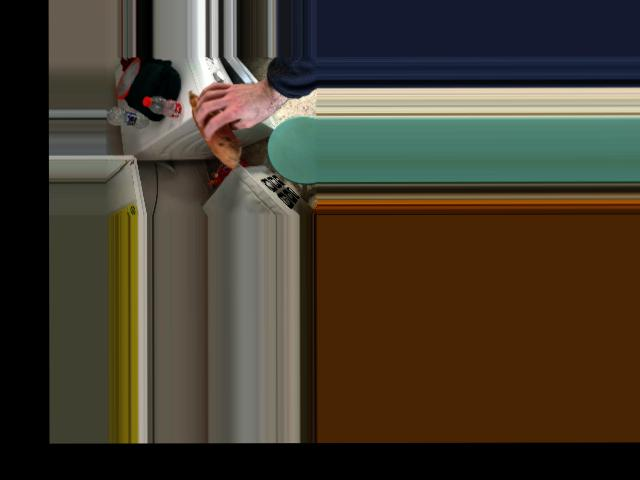sweet_potato: (192, 87, 242, 165)
